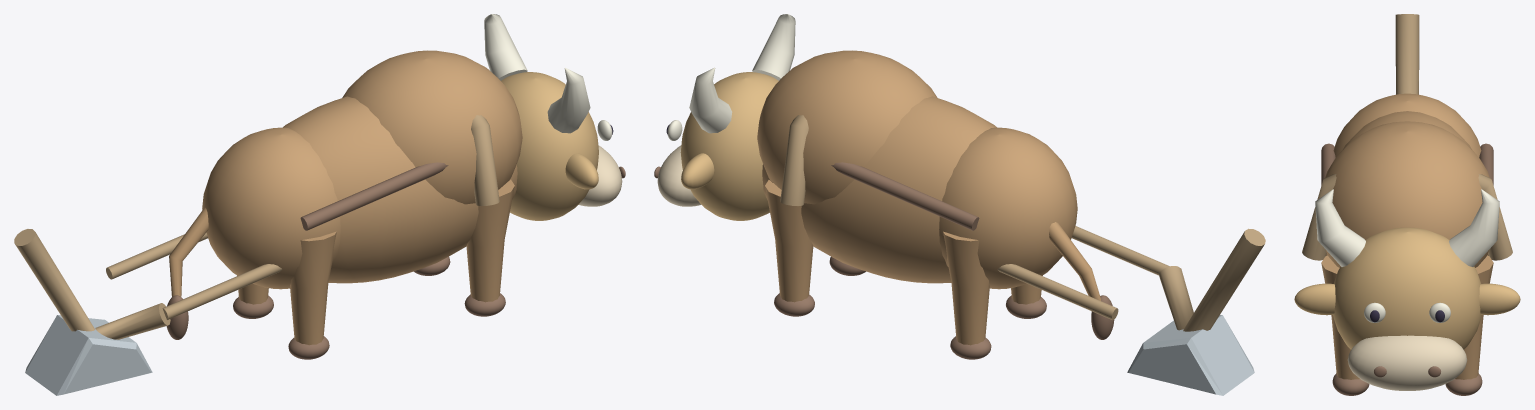
Rendered from conch_ox_directions_YellowWalk.glb.
The picture shows the model from 3 angles, left to right: view 1: azimuth 30°, elevation 25°; view 2: azimuth 150°, elevation 25°; view 3: azimuth 270°, elevation 25°; orthographic projection.
Size of the model in its own units: 37.11 by 14.45 by 12.06.
